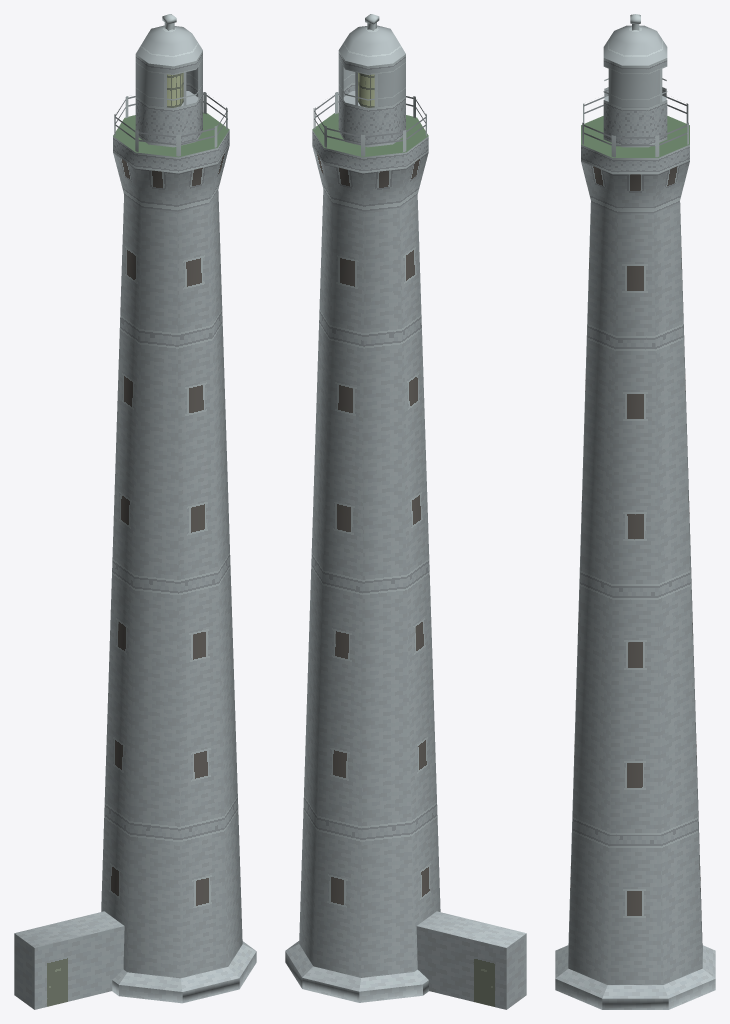
Rendered from 04ef_Tall_Lighthouse.glb.
3 renders of one model, left to right at view 1: azimuth 30°, elevation 25°; view 2: azimuth 150°, elevation 25°; view 3: azimuth 270°, elevation 25°, orthographic.
Parts seen in each view (by area): view 1: part_0; view 2: part_0; view 3: part_0.
Boxes of the visible parts, x1,y1,x2,y2 form: part_0: [14, 14, 256, 1009]; part_0: [285, 14, 526, 1009]; part_0: [555, 14, 715, 1009].
Size of the model in its own units: 11.05 by 46.75 by 7.07.
1 material, 1 textured.
